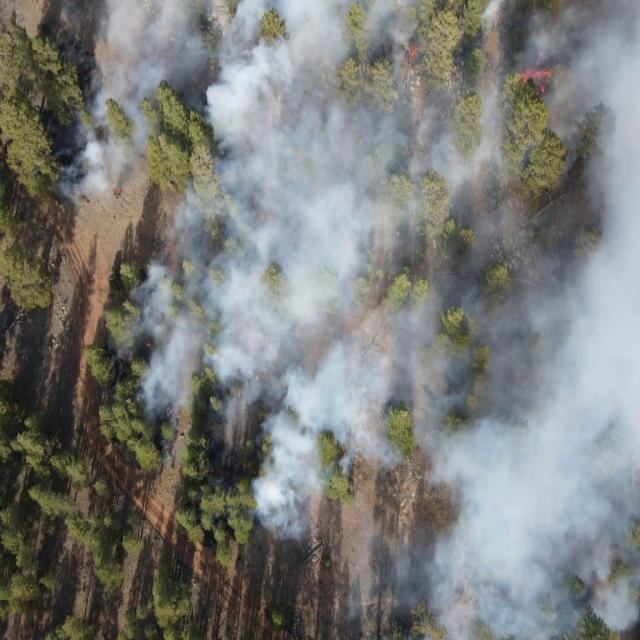fire: (519, 68, 557, 94), (404, 38, 422, 62), (532, 47, 546, 68), (111, 186, 122, 200), (143, 339, 153, 350), (165, 404, 174, 416), (560, 66, 568, 78), (75, 188, 83, 198)
smoke: (49, 0, 640, 205), (432, 204, 640, 640), (170, 206, 432, 424), (128, 244, 171, 466), (252, 424, 328, 548), (342, 539, 434, 640), (326, 424, 433, 486), (102, 332, 130, 368)
